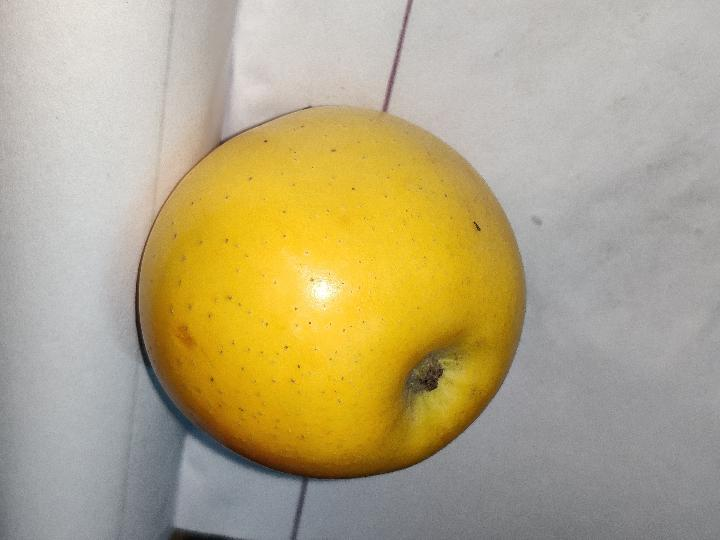apple: (138, 107, 525, 478)
surface_damage: (174, 326, 197, 349)
